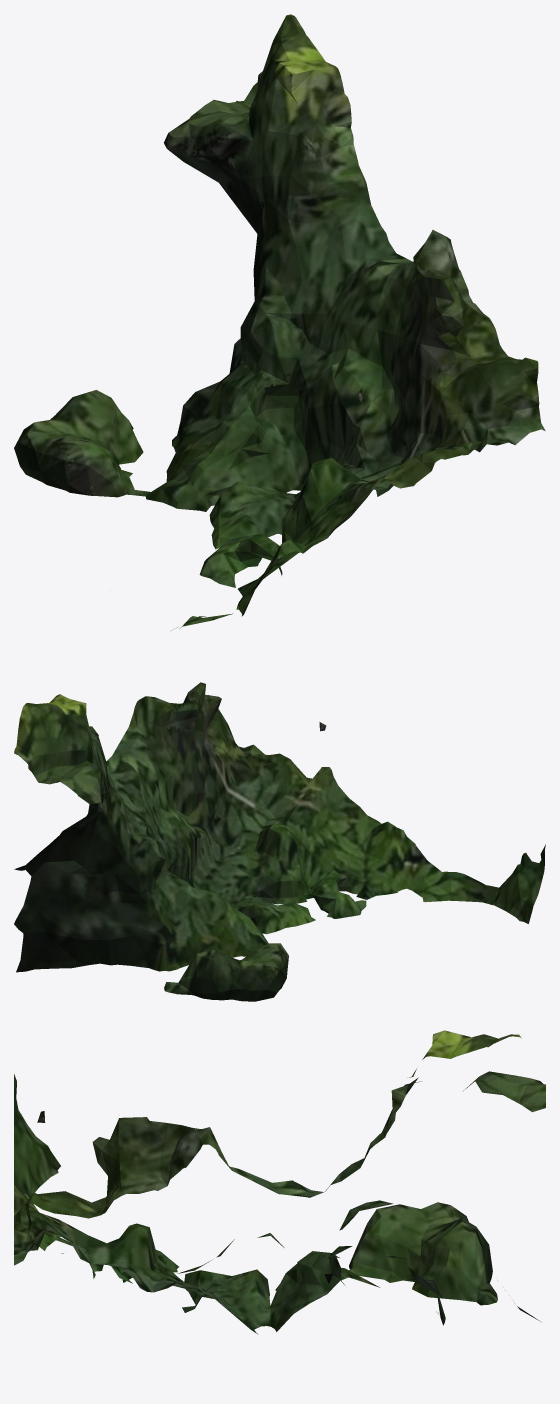
The picture shows the model from 3 angles, top to bottom: view 1: azimuth 30°, elevation 25°; view 2: azimuth 150°, elevation 25°; view 3: azimuth 270°, elevation 25°; orthographic projection. The views are drawn at different scales.
Bounding box in the file's own units: 0.8374 × 0.6167 × 0.8373.
3 materials, 3 textured.
